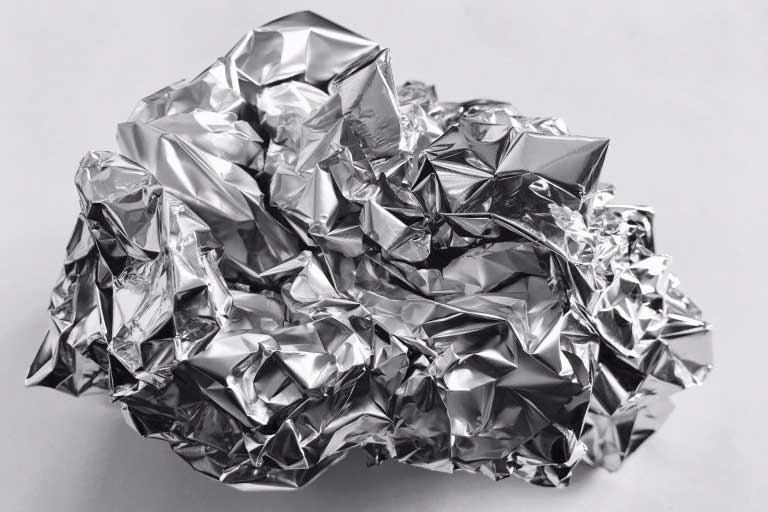metal: (23, 8, 715, 496)
